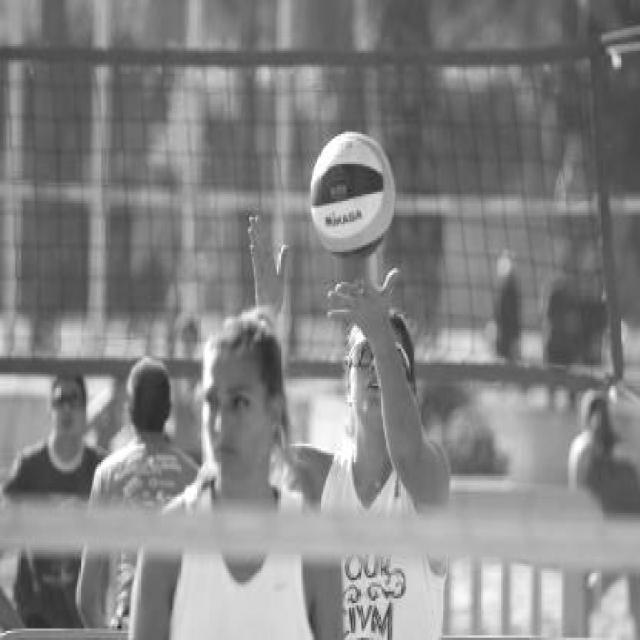volleyball: (308, 130, 396, 260)
